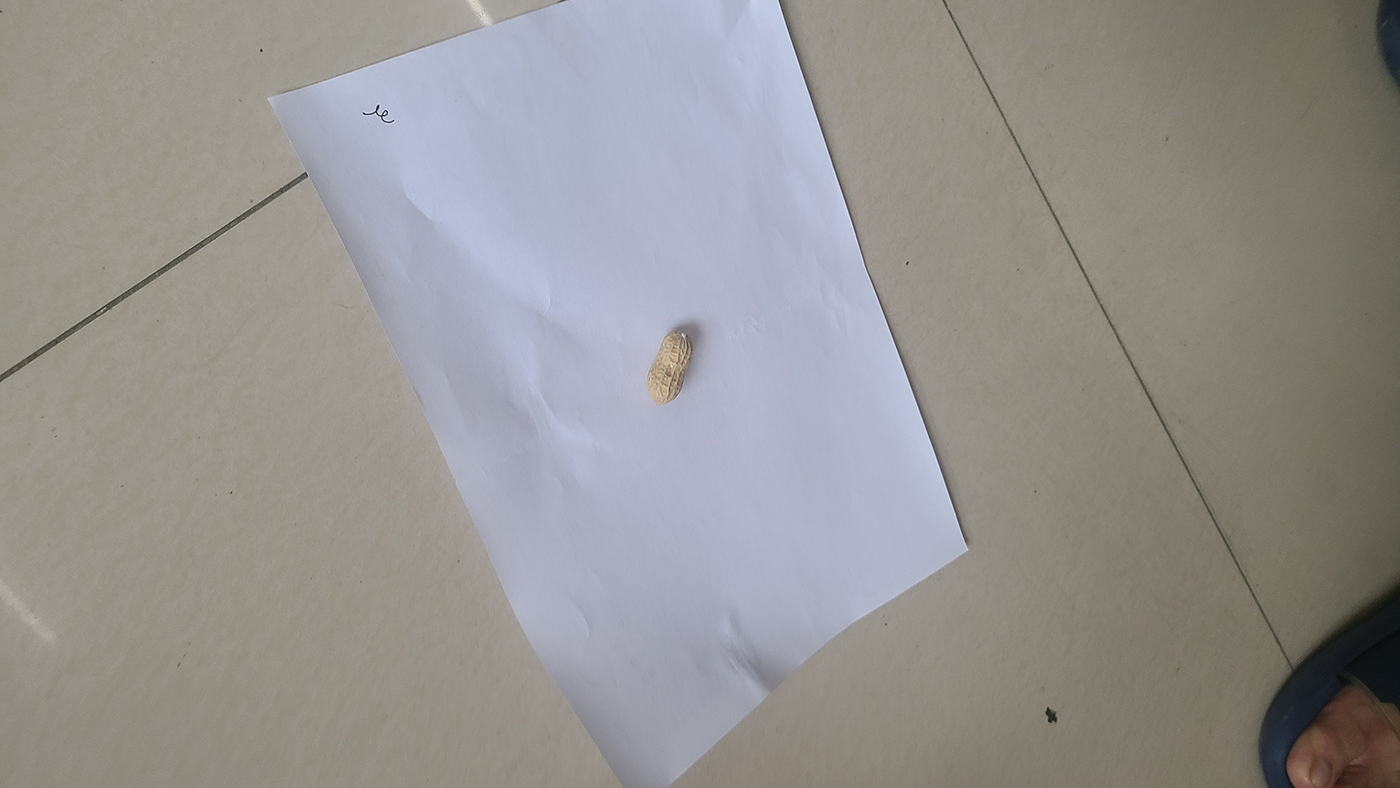h: (646, 330, 694, 405)
